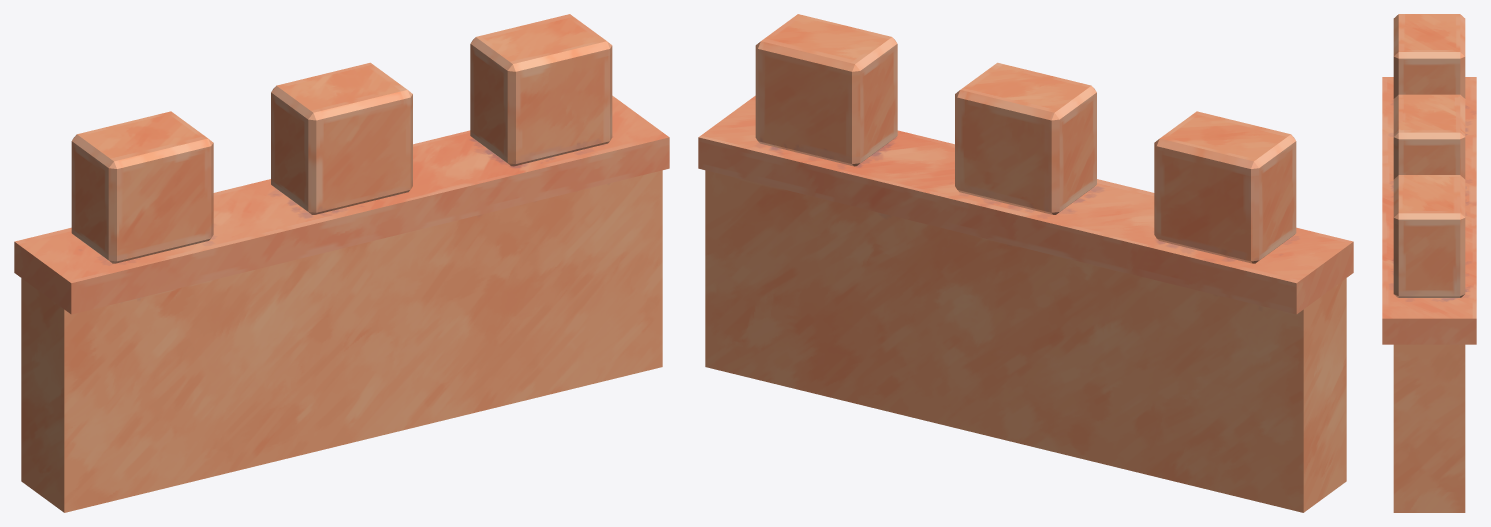
Rendered from parapet_crenel.fbx.
The picture shows the model from 3 angles, left to right: view 1: azimuth 30°, elevation 25°; view 2: azimuth 150°, elevation 25°; view 3: azimuth 270°, elevation 25°; orthographic projection. The views are drawn at different scales.
Visible parts, largest first — view 1: parapet_crenel; view 2: parapet_crenel; view 3: parapet_crenel.
Part boxes in pixels (box(x1,y1,x2,y2)): parapet_crenel: box(14, 14, 669, 512); parapet_crenel: box(698, 14, 1353, 512); parapet_crenel: box(1382, 14, 1476, 512).
Size of the model in its own units: 8 by 4.3 by 1.32.
1 material, 1 textured.
